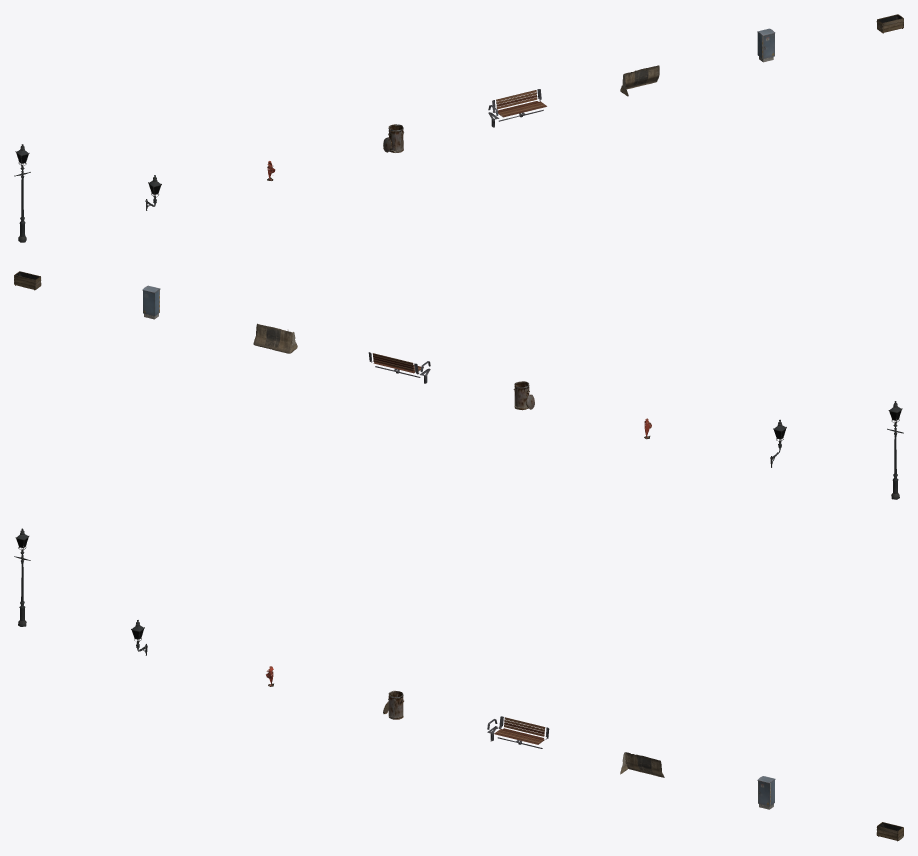
Rendered from props.glb.
3 views of the same model, one above another, from view 1: azimuth 30°, elevation 25°; view 2: azimuth 150°, elevation 25°; view 3: azimuth 330°, elevation 25° (orthographic).
Visible parts, largest first — view 1: modular_street_seating, concrete_road_barrier, utility_box_01, street_lamp_01, metal_trash_can; view 2: concrete_road_barrier, modular_street_seating, utility_box_01, street_lamp_01, metal_trash_can; view 3: modular_street_seating, concrete_road_barrier.
Part boxes in pixels (x1,y1,x2,y2): modular_street_seating: (488, 89, 546, 127); concrete_road_barrier: (620, 65, 659, 96); utility_box_01: (757, 28, 775, 62); street_lamp_01: (14, 144, 30, 242); metal_trash_can: (383, 124, 403, 152); concrete_road_barrier: (253, 323, 297, 353); modular_street_seating: (368, 352, 430, 383); utility_box_01: (142, 285, 160, 319); street_lamp_01: (887, 401, 903, 499); metal_trash_can: (513, 381, 534, 410); modular_street_seating: (487, 716, 549, 748); concrete_road_barrier: (620, 752, 664, 777).
Size of the model in its own units: 21.47 by 2.25 by 0.6621.
16 materials, 16 textured.
